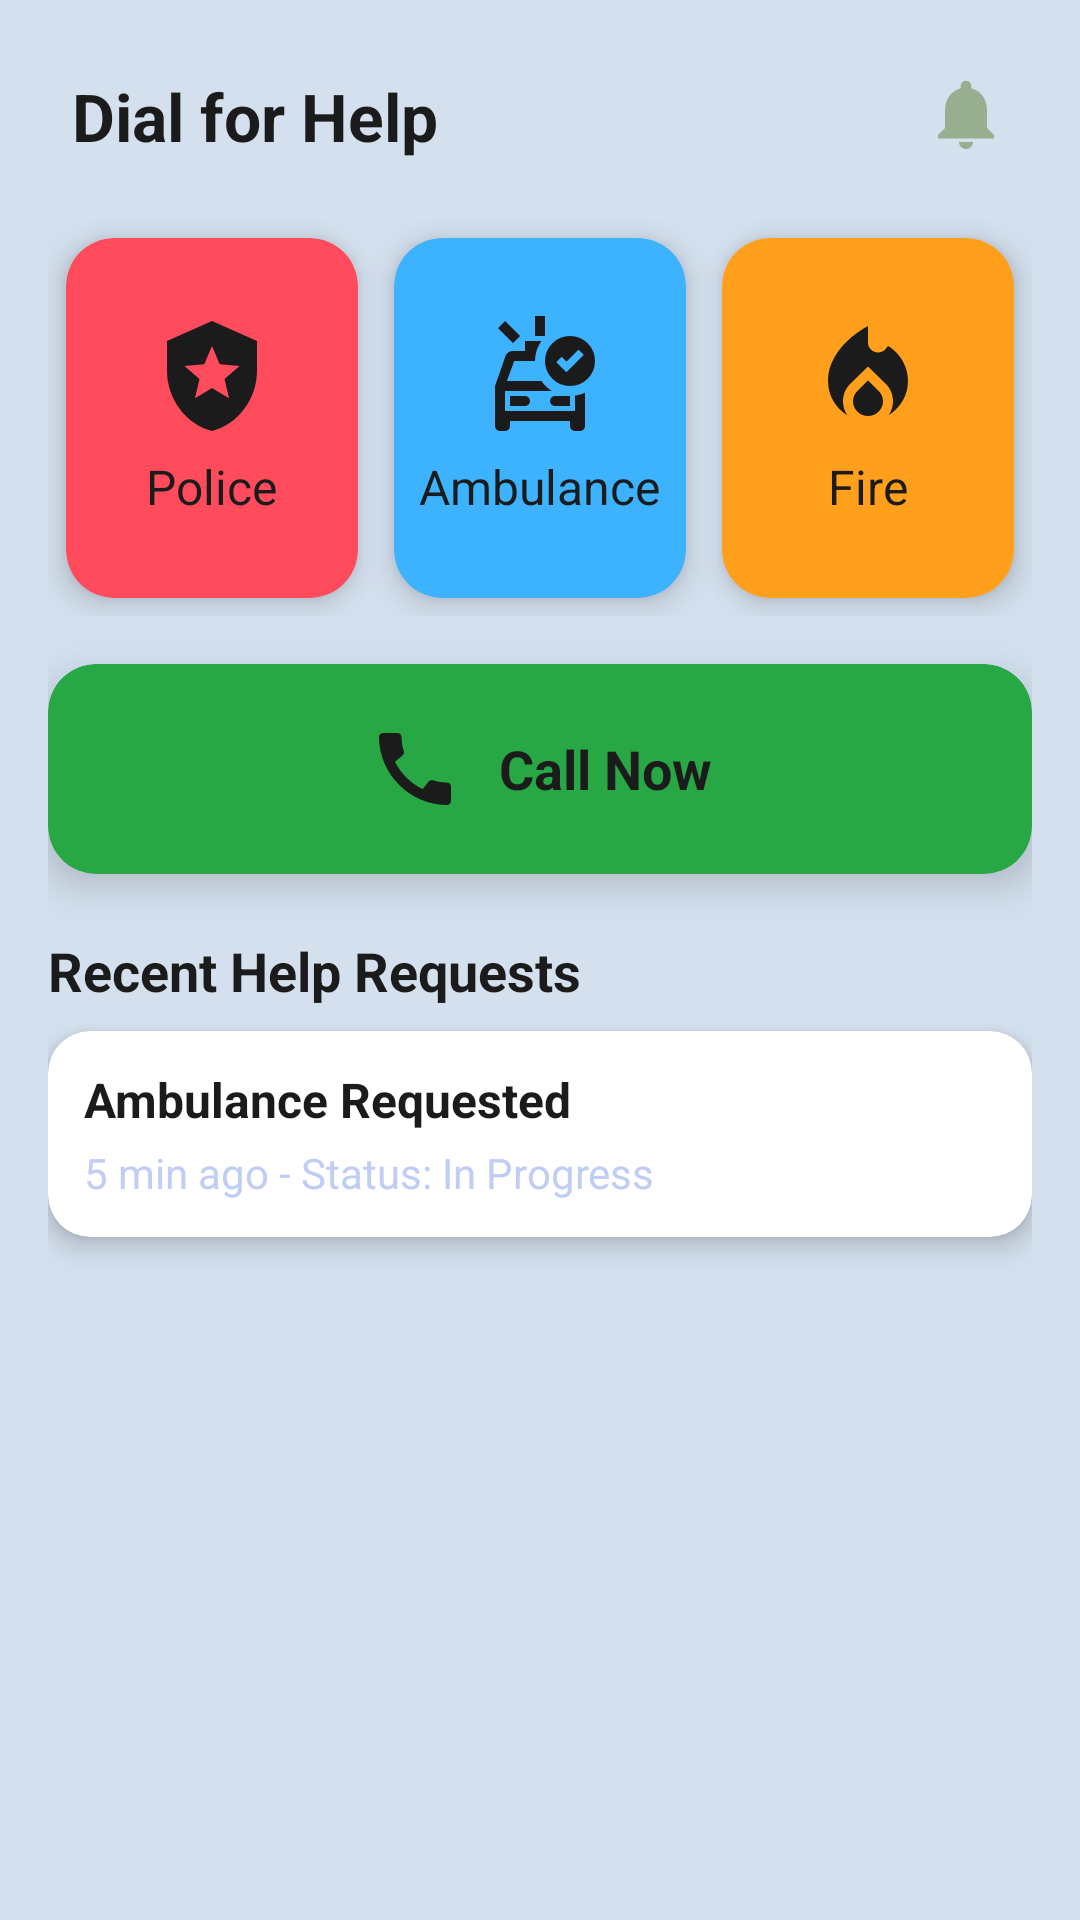

Icon bounding boxes for this 1080w x 1920h phone screenshot, format (x1, y1, x2, y2):
notifications: (938, 81, 994, 149)
